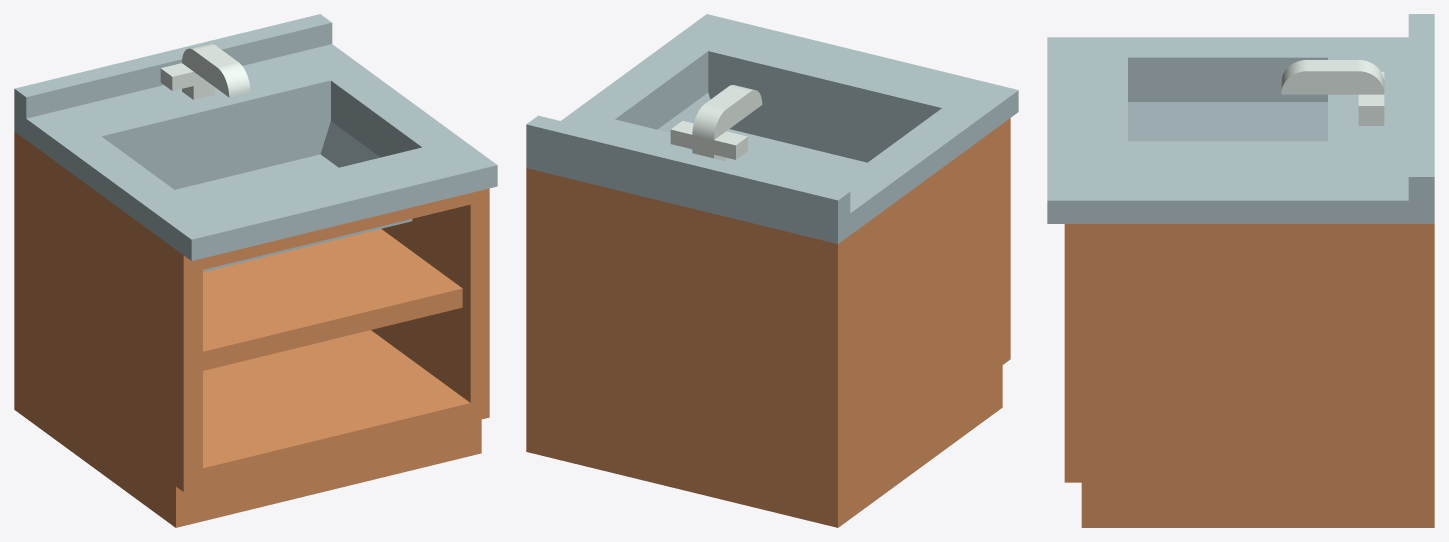
File: kitchenSink.glb
The picture shows the model from 3 angles, left to right: view 1: azimuth 30°, elevation 25°; view 2: azimuth 150°, elevation 25°; view 3: azimuth 270°, elevation 25°; orthographic projection. The views are drawn at different scales.
Parts seen in each view (by area): view 1: kitchenSink; view 2: kitchenSink; view 3: kitchenSink.
Part boxes in pixels (x1,y1,x2,y2): kitchenSink: (14, 14, 497, 527); kitchenSink: (526, 14, 1018, 527); kitchenSink: (1047, 14, 1434, 527).
Size of the model in its own units: 0.9951 by 1.09 by 0.9982.
